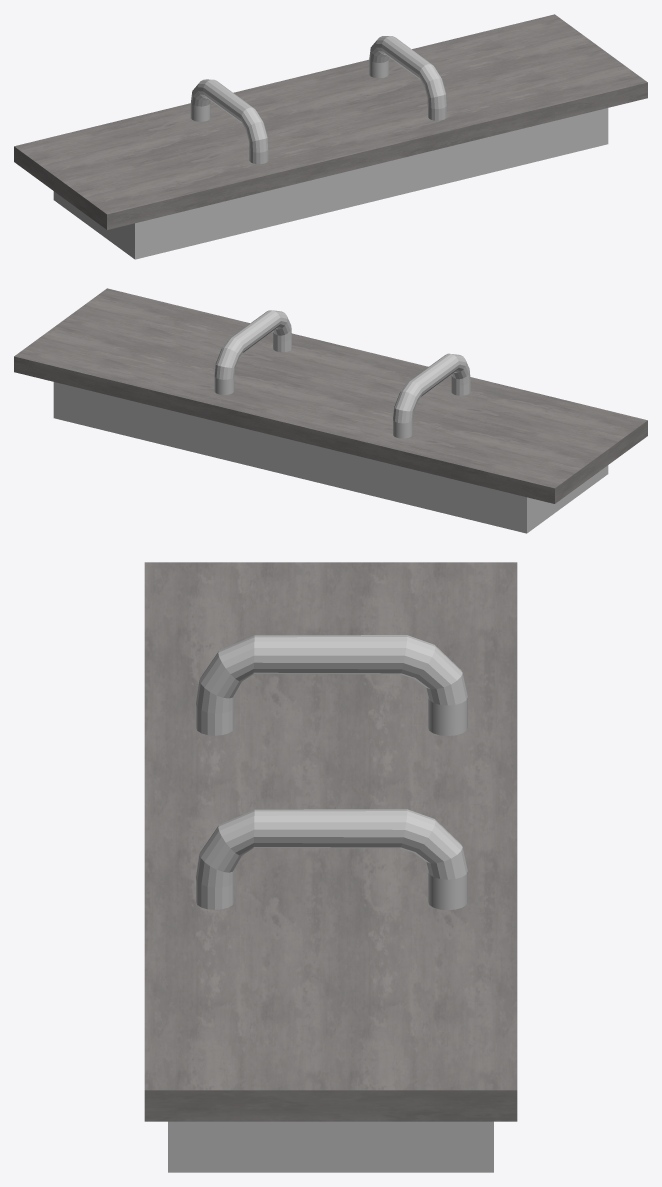
File: mrt bench.fbx
3 views of the same model, one above another, from view 1: azimuth 30°, elevation 25°; view 2: azimuth 150°, elevation 25°; view 3: azimuth 270°, elevation 25° (orthographic). The views are drawn at different scales.
Visible parts, largest first — view 1: mrt_station:chair1; view 2: mrt_station:chair1; view 3: mrt_station:chair1.
Part boxes in pixels (left/top/right/bottom): mrt_station:chair1: left=14, top=14, right=647, bottom=259; mrt_station:chair1: left=14, top=288, right=647, bottom=533; mrt_station:chair1: left=144, top=562, right=517, bottom=1172.
Bounding box in the file's own units: 566 × 103 × 169.
Materials: 1 (1 with a texture image).
